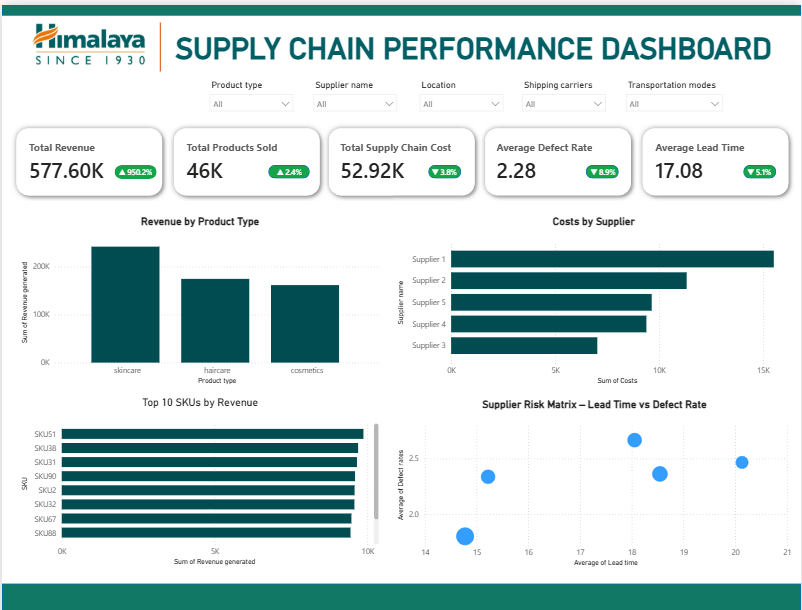

What the dashboard file says about the page in this screenshot:
{"tool":"powerbi","page":{"name":"Page 1","canvas":[1280,1000],"ordinal":0},"visuals":[{"type":"shape","box":[0,0,1280,17.1],"z":0},{"type":"image","box":[27.1,31.5,222.9,65.7],"z":0,"group":"g1"},{"type":"group","id":"g1","title":"Group 1","box":[27.1,28.6,1225.7,78.6],"z":1000},{"type":"textbox","box":[260,37.2,992.9,65.7],"z":1000,"group":"g1"},{"type":"shape","box":[191.4,28.6,122.9,78.6],"z":2000,"group":"g1"},{"type":"slicer","fields":{"Values":["supply_chain_data.Product type"]},"box":[322.9,114.3,154.3,74.3],"z":2000},{"type":"slicer","fields":{"Values":["supply_chain_data.Supplier name"]},"box":[487.1,114.3,154.3,74.3],"z":3000},{"type":"slicer","fields":{"Values":["supply_chain_data.Location"]},"box":[657.1,114.3,154.3,74.3],"z":4000},{"type":"slicer","fields":{"Values":["supply_chain_data.Shipping carriers"]},"box":[822.9,114.3,154.3,74.3],"z":5000},{"type":"slicer","fields":{"Values":["supply_chain_data.Transportation modes"]},"box":[987.1,114.3,175.7,74.3],"z":6000},{"type":"group","id":"g2","title":"Group 2","box":[14.3,188.6,1252.9,125.7],"z":7000},{"type":"shape","box":[14.3,188.6,251.2,125.7],"z":7000,"group":"g2"},{"type":"shape","box":[265.5,188.6,251.2,125.7],"z":8000,"group":"g2"},{"type":"cardVisual","fields":{"Data":["supply_chain_data.Total Revenue"]},"box":[14.3,202.9,202.9,97.1],"z":8000},{"type":"shape","box":[515.1,188.6,251.2,125.7],"z":9000,"group":"g2"},{"type":"shape","box":[179.2,255.2,67.6,22.4],"z":9000},{"type":"shape","box":[764.7,188.6,251.2,125.7],"z":10000,"group":"g2"},{"type":"cardVisual","fields":{"Data":["supply_chain_data.Total Products Sold"]},"box":[266.2,202.5,226.2,97.5],"z":10000},{"type":"shape","box":[1015.9,188.6,251.2,125.7],"z":11000,"group":"g2"},{"type":"cardVisual","fields":{"Data":["supply_chain_data.Total Supply Chain Cost"]},"box":[511.4,202.9,281.4,97.1],"z":11000},{"type":"cardVisual","fields":{"Data":["supply_chain_data.Average Defect Rate"]},"box":[761.4,202.9,254.3,97.1],"z":12000},{"type":"cardVisual","fields":{"Data":["supply_chain_data.Average Lead Time"]},"box":[1015.7,202.9,202.9,97.1],"z":13000},{"type":"shape","box":[426.5,256,66.5,21.5],"z":14000},{"type":"shape","box":[681.7,255.8,52.9,21.4],"z":15000},{"type":"shape","box":[933.8,256.2,52.9,21.4],"z":16000},{"type":"shape","box":[1186.2,255.4,52.9,21.4],"z":17000},{"type":"cardVisual","fields":{"Data":["supply_chain_data.Revenue Arrow"]},"box":[183.1,255.4,59.2,20],"z":18000},{"type":"cardVisual","fields":{"Data":["supply_chain_data.Products Sold Arrow"]},"box":[430,255.7,59.2,20],"z":19000},{"type":"cardVisual","fields":{"Data":["supply_chain_data.Supply Chain Cost Arrow"]},"box":[678.7,255.2,59.2,20],"z":20000},{"type":"cardVisual","fields":{"Data":["supply_chain_data.Defect Rate Arrow"]},"box":[931.2,256.2,59.2,20],"z":21000},{"type":"cardVisual","fields":{"Data":["supply_chain_data.Lead Time Arrow"]},"box":[1182.5,255,59.2,20],"z":22000},{"type":"clusteredColumnChart","title":"Revenue by Product Type","fields":{"Category":["supply_chain_data.Product type"],"Y":["Sum(supply_chain_data.Revenue generated)"]},"box":[26,336,520,275],"z":23000},{"type":"clusteredBarChart","title":"Costs by Supplier ","fields":{"Category":["supply_chain_data.Supplier name"],"Y":["Sum(supply_chain_data.Costs)"]},"box":[628,336,520,275],"z":23001},{"type":"clusteredBarChart","title":"Top 10 SKUs by Revenue","fields":{"Category":["supply_chain_data.SKU"],"Y":["Sum(supply_chain_data.Revenue generated)"]},"box":[26.7,626.7,520,276],"z":23002},{"type":"shape","box":[0,926,1280,74],"z":23003},{"type":"scatterChart","title":"Supplier Risk Matrix – Lead Time vs Defect Rate","fields":{"X":["Avg(supply_chain_data.Lead time)"],"Y":["Avg(supply_chain_data.Defect rates)"],"Size":["Sum(supply_chain_data.Costs)"],"Category":["supply_chain_data.Supplier name"]},"box":[628,627,520,276],"z":23004}]}

Visuals, with their boxes in screenshot pixels (x1, y1, x2, y2), scaled from the page's 1280x1000 canvas onto the 802x610 screenshot:
shape: <region>0, 0, 801, 10</region>
image: <region>17, 19, 157, 59</region>
"Group 1" group: <region>17, 17, 785, 65</region>
textbox: <region>163, 23, 785, 63</region>
shape: <region>120, 17, 197, 65</region>
slicer - supply_chain_data.Product type: <region>202, 70, 299, 115</region>
slicer - supply_chain_data.Supplier name: <region>305, 70, 402, 115</region>
slicer - supply_chain_data.Location: <region>412, 70, 508, 115</region>
slicer - supply_chain_data.Shipping carriers: <region>516, 70, 612, 115</region>
slicer - supply_chain_data.Transportation modes: <region>618, 70, 729, 115</region>
"Group 2" group: <region>9, 115, 794, 192</region>
shape: <region>9, 115, 166, 192</region>
shape: <region>166, 115, 324, 192</region>
cardVisual - supply_chain_data.Total Revenue: <region>9, 124, 136, 183</region>
shape: <region>323, 115, 480, 192</region>
shape: <region>112, 156, 155, 169</region>
shape: <region>479, 115, 637, 192</region>
cardVisual - supply_chain_data.Total Products Sold: <region>167, 124, 309, 183</region>
shape: <region>637, 115, 794, 192</region>
cardVisual - supply_chain_data.Total Supply Chain Cost: <region>320, 124, 497, 183</region>
cardVisual - supply_chain_data.Average Defect Rate: <region>477, 124, 636, 183</region>
cardVisual - supply_chain_data.Average Lead Time: <region>636, 124, 764, 183</region>
shape: <region>267, 156, 309, 169</region>
shape: <region>427, 156, 460, 169</region>
shape: <region>585, 156, 618, 169</region>
shape: <region>743, 156, 776, 169</region>
cardVisual - supply_chain_data.Revenue Arrow: <region>115, 156, 152, 168</region>
cardVisual - supply_chain_data.Products Sold Arrow: <region>269, 156, 307, 168</region>
cardVisual - supply_chain_data.Supply Chain Cost Arrow: <region>425, 156, 462, 168</region>
cardVisual - supply_chain_data.Defect Rate Arrow: <region>583, 156, 621, 168</region>
cardVisual - supply_chain_data.Lead Time Arrow: <region>741, 156, 778, 168</region>
"Revenue by Product Type" clusteredColumnChart: <region>16, 205, 342, 373</region>
"Costs by Supplier " clusteredBarChart: <region>393, 205, 719, 373</region>
"Top 10 SKUs by Revenue" clusteredBarChart: <region>17, 382, 343, 551</region>
shape: <region>0, 565, 801, 609</region>
"Supplier Risk Matrix – Lead Time vs Defect Rate" scatterChart: <region>393, 382, 719, 551</region>
